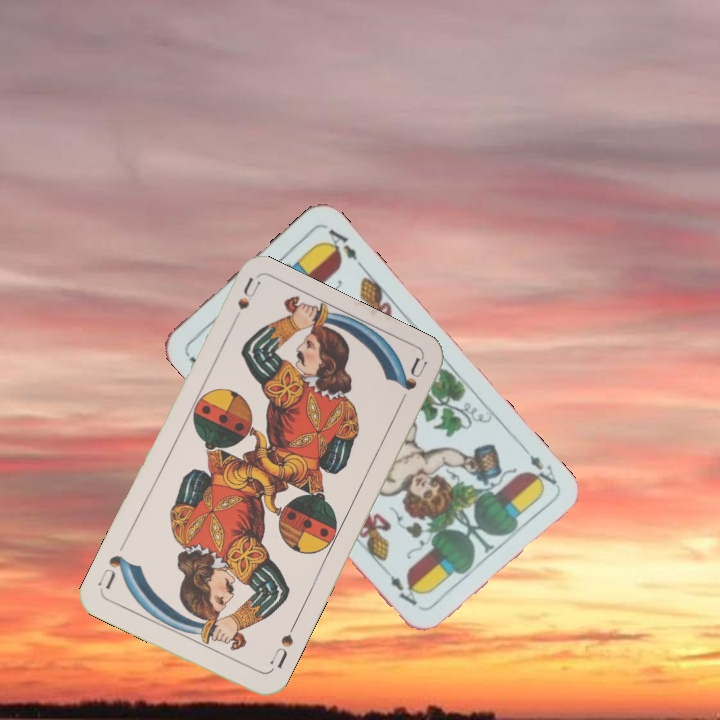EA: (516, 441, 560, 491)
SU: (266, 619, 299, 671), (233, 275, 263, 313)
